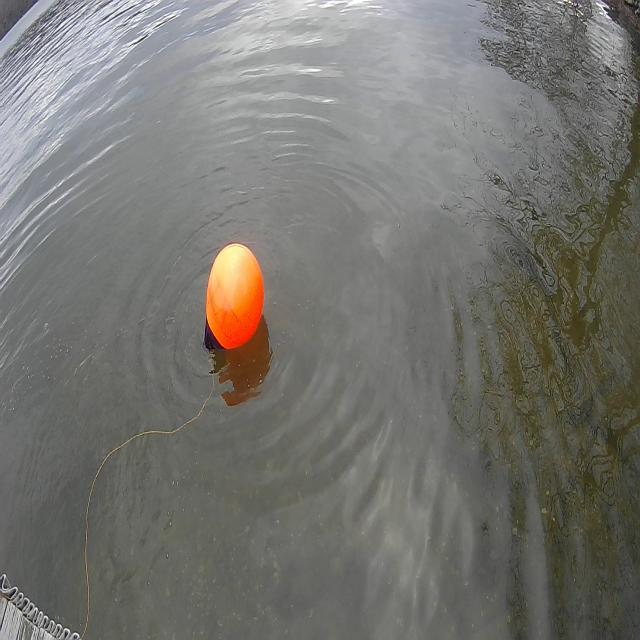Buoy: (204, 239, 265, 354)
